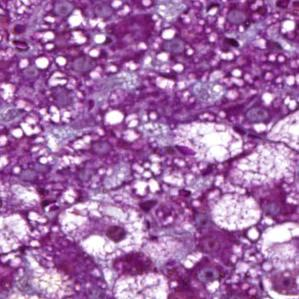ballooning: (56, 197, 148, 261)
